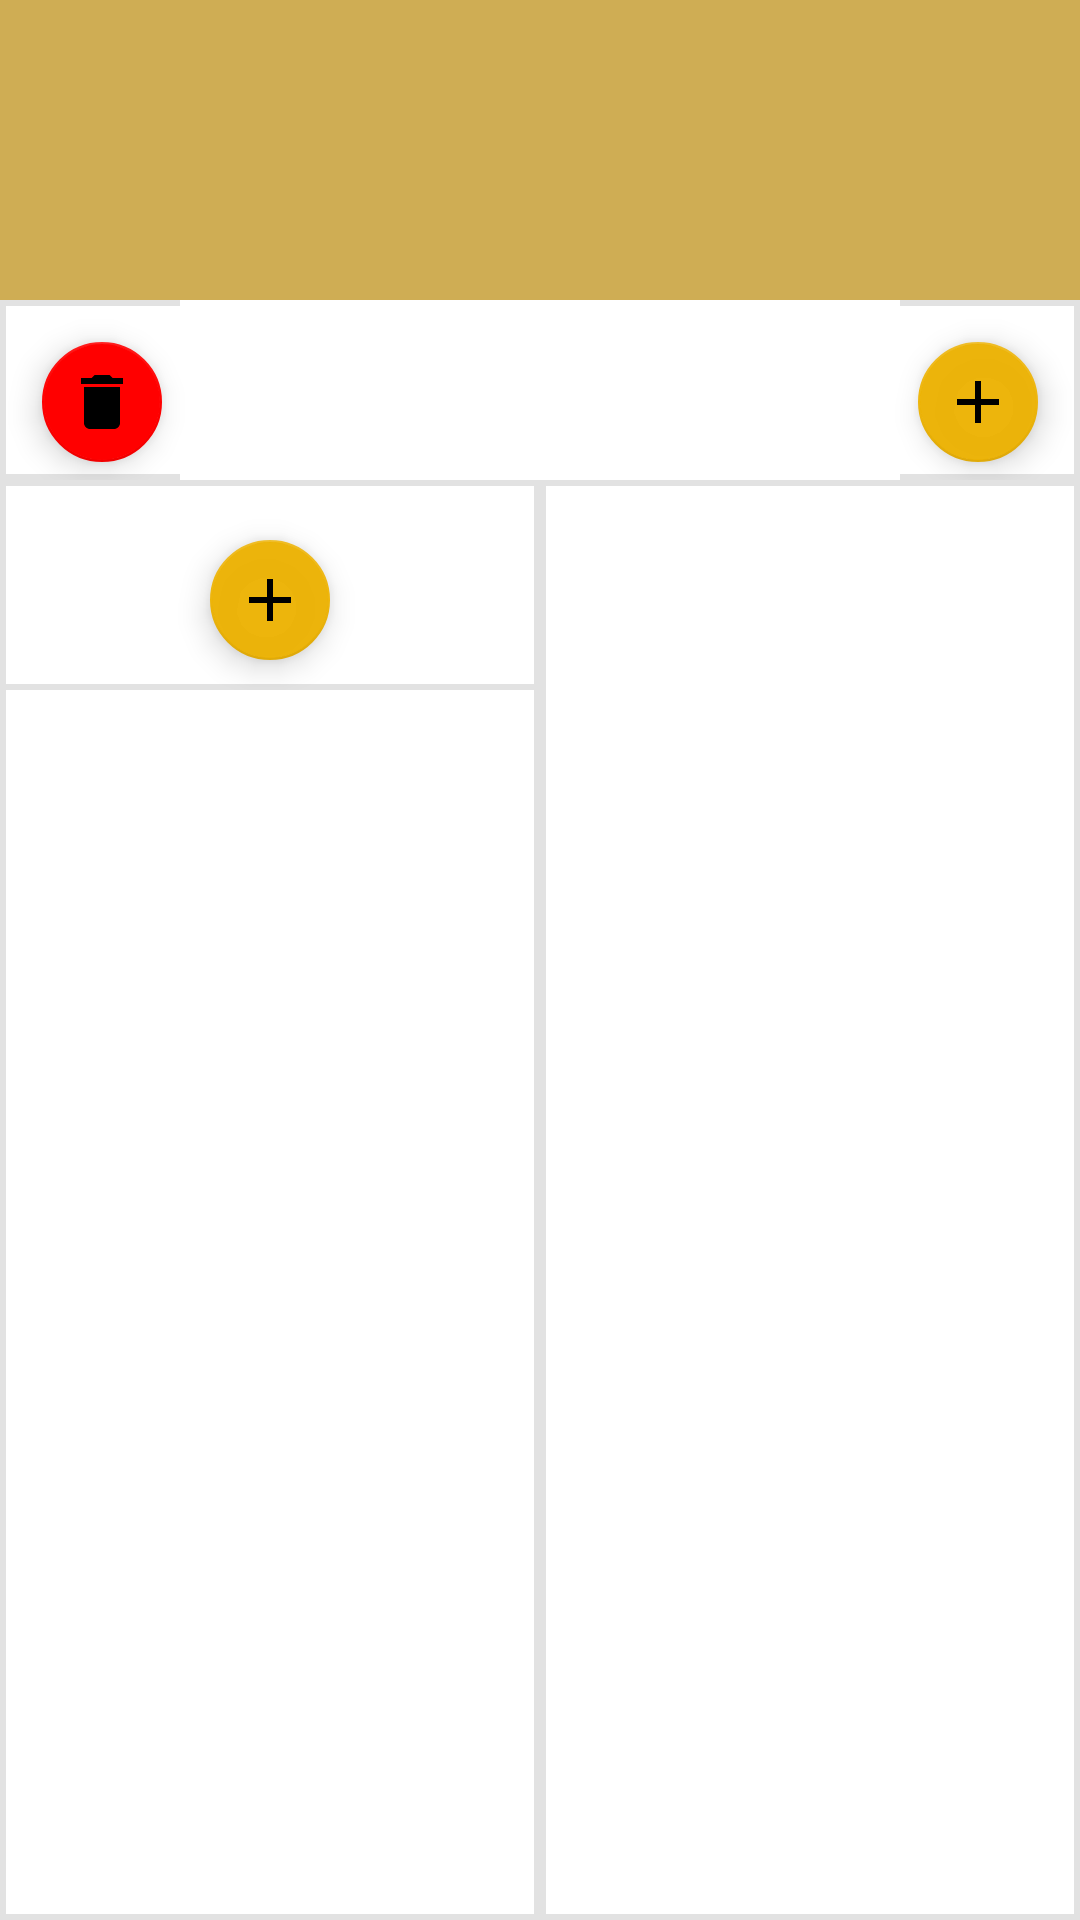

Locate icon controls on the screen. Image size 1080px x 1920px, boxes as box(x1, y1, x2, y2).
add: box(918, 342, 1040, 464), box(209, 540, 330, 663)
delete: box(40, 342, 162, 464)
